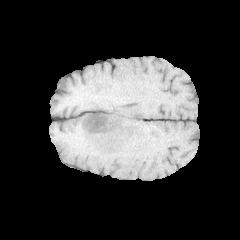glioma: (66, 102, 137, 155)
